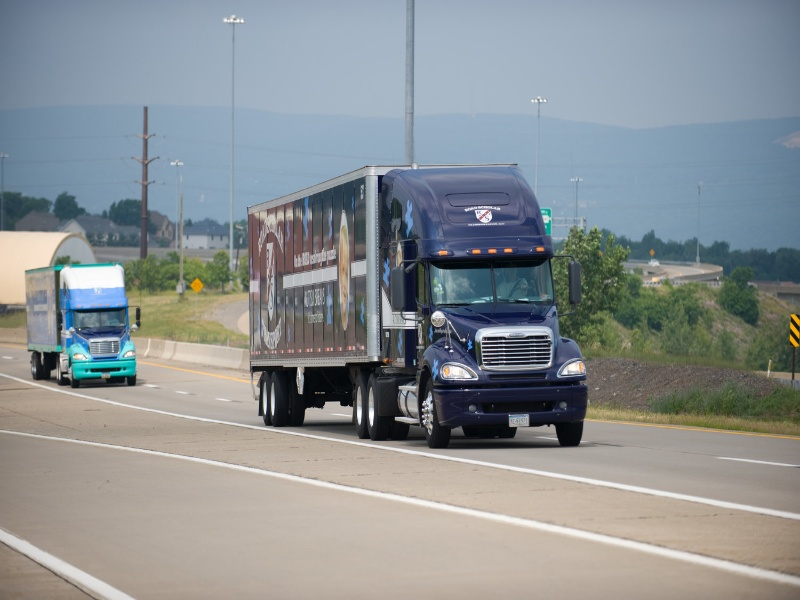semi: (213, 159, 592, 453), (14, 259, 156, 397)
